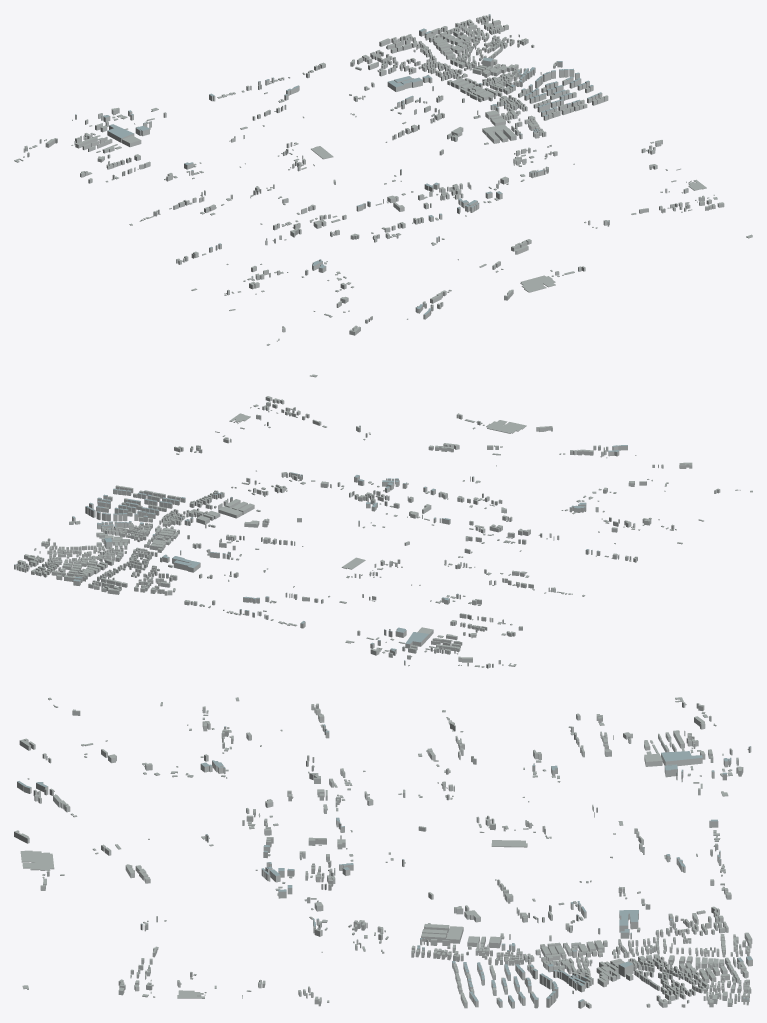
File: far.glb
3 renders of one model, top to bottom at view 1: azimuth 30°, elevation 25°; view 2: azimuth 150°, elevation 25°; view 3: azimuth 270°, elevation 25°, orthographic. The views are drawn at different scales.
Size of the model in its own units: 2115 by 30.53 by 2126.
